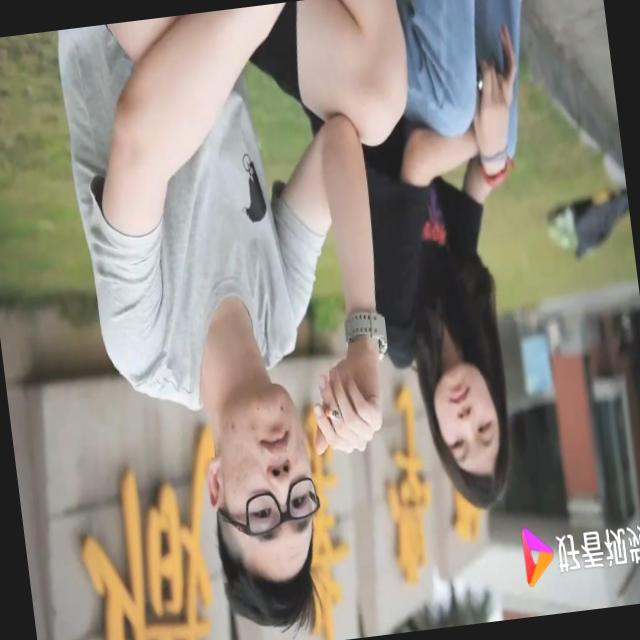cigarette: (313, 395, 348, 432)
